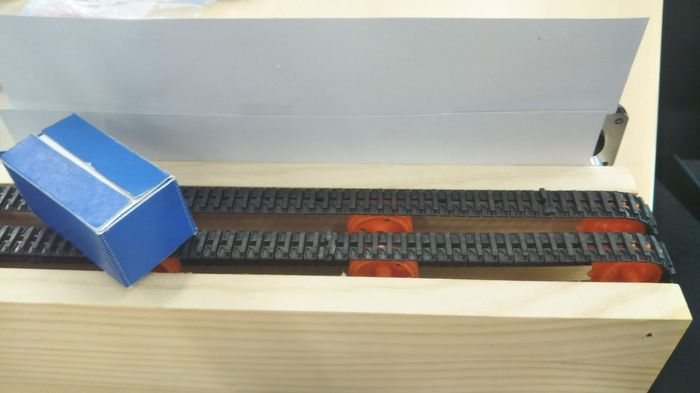box3: (2, 109, 198, 289)
